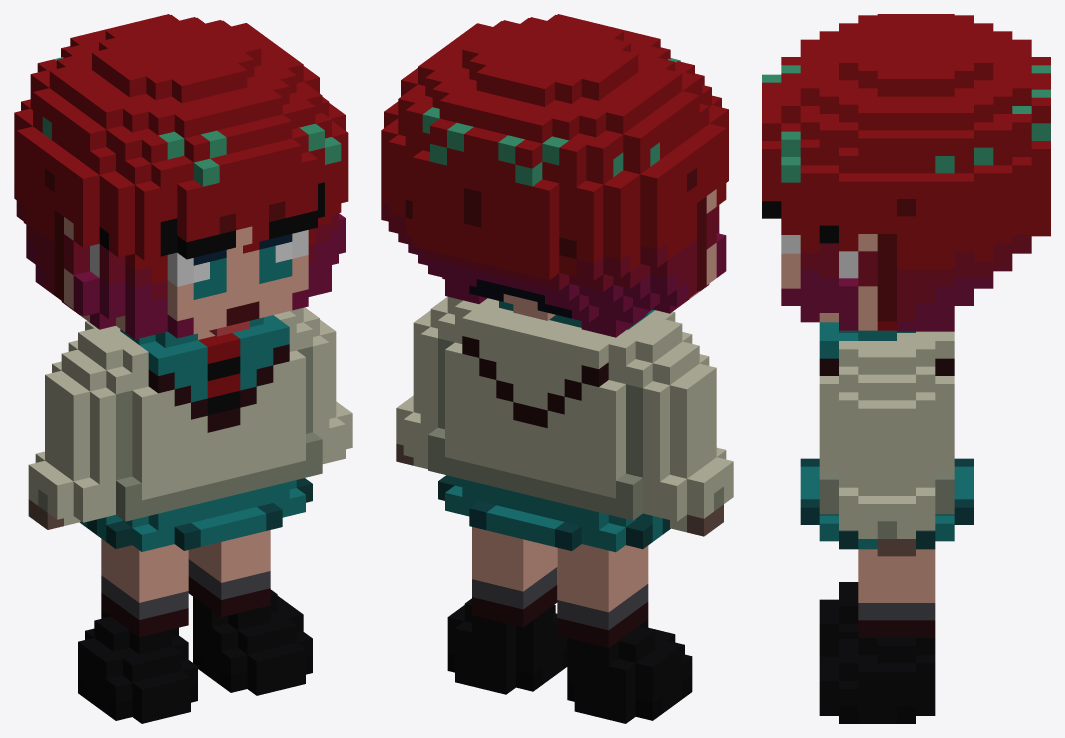
File: machu_voxel.glb
3 renders of one model, left to right at view 1: azimuth 30°, elevation 25°; view 2: azimuth 150°, elevation 25°; view 3: azimuth 270°, elevation 25°, orthographic. The views are drawn at different scales.
Visible parts, largest first — view 1: voxel; view 2: voxel; view 3: voxel.
Part boxes in pixels (x1,y1,x2,y2): voxel: [14, 14, 352, 723]; voxel: [381, 14, 733, 723]; voxel: [762, 14, 1050, 723].
Size of the model in its own units: 18 by 36 by 15.
